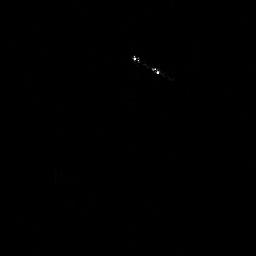ship: (129, 53, 175, 81)
